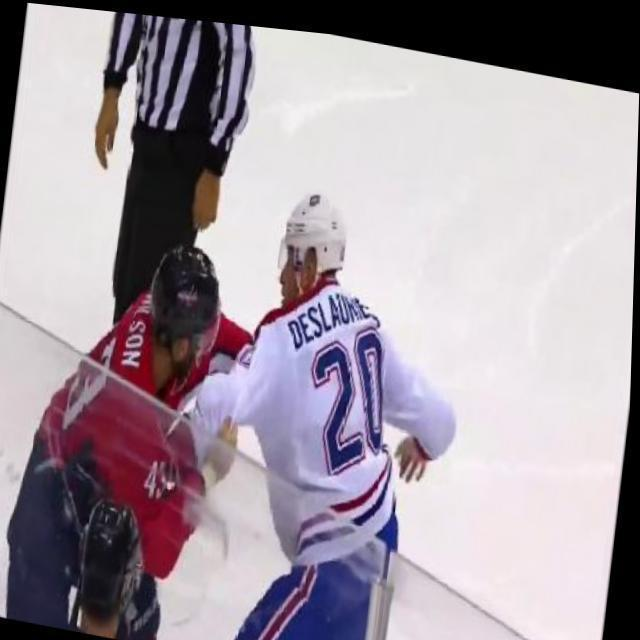fight: (2, 137, 482, 640)
